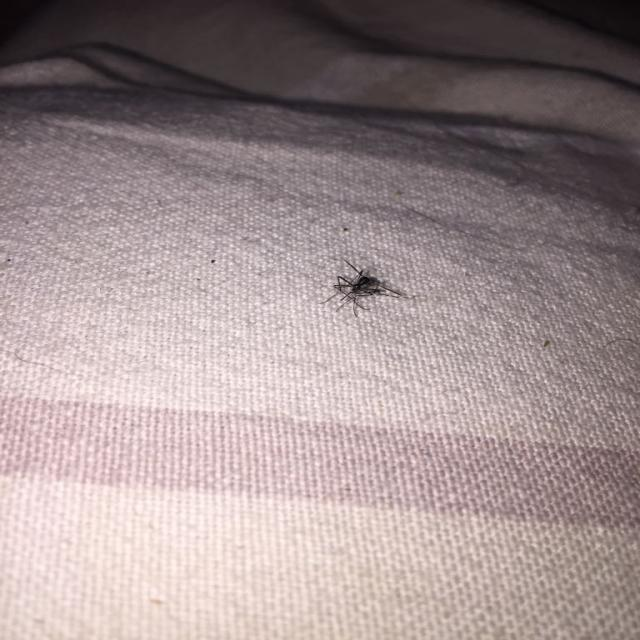albopictus: (313, 252, 415, 324)
